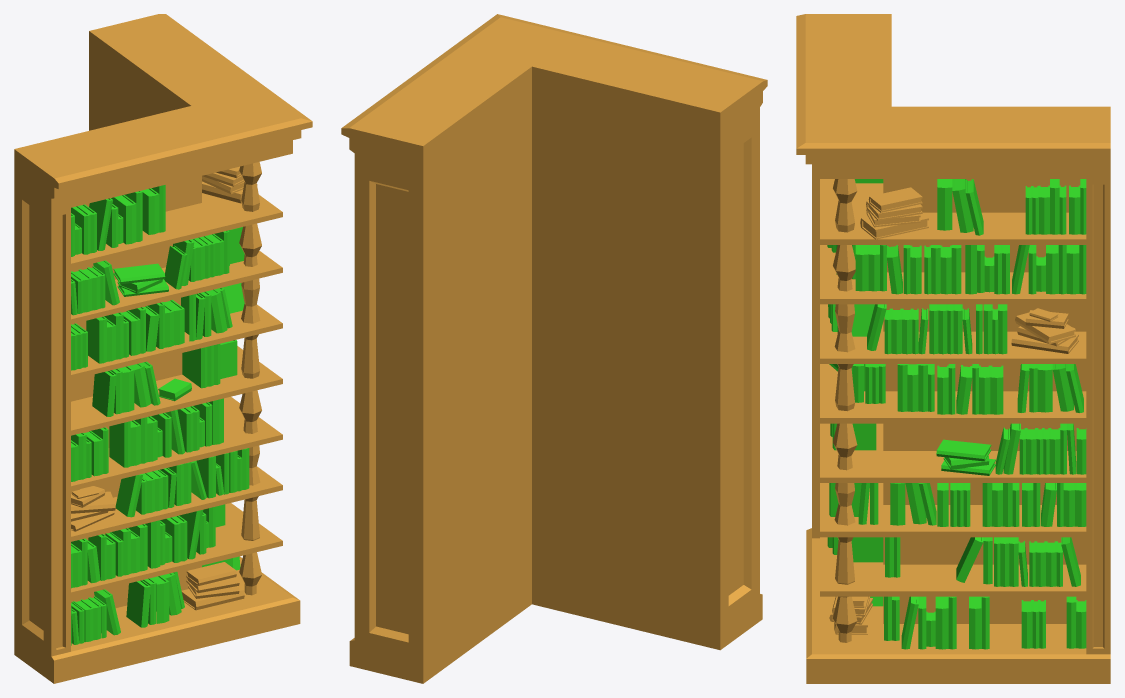
The model's file is SM_Bookcase_Modular_Filled_Corner_Outer.fbx.
3 renders of one model, left to right at view 1: azimuth 30°, elevation 25°; view 2: azimuth 150°, elevation 25°; view 3: azimuth 270°, elevation 25°, orthographic. The views are drawn at different scales.
Visible parts, largest first — view 1: bookcase-modular-filled-corner-outer; view 2: bookcase-modular-filled-corner-outer; view 3: bookcase-modular-filled-corner-outer.
Boxes of the visible parts, x1=… form: bookcase-modular-filled-corner-outer: x1=14, y1=14, x2=312, y2=683; bookcase-modular-filled-corner-outer: x1=341, y1=14, x2=767, y2=683; bookcase-modular-filled-corner-outer: x1=796, y1=14, x2=1110, y2=683.
Size of the model in its own units: 1.58 by 3 by 1.58.
